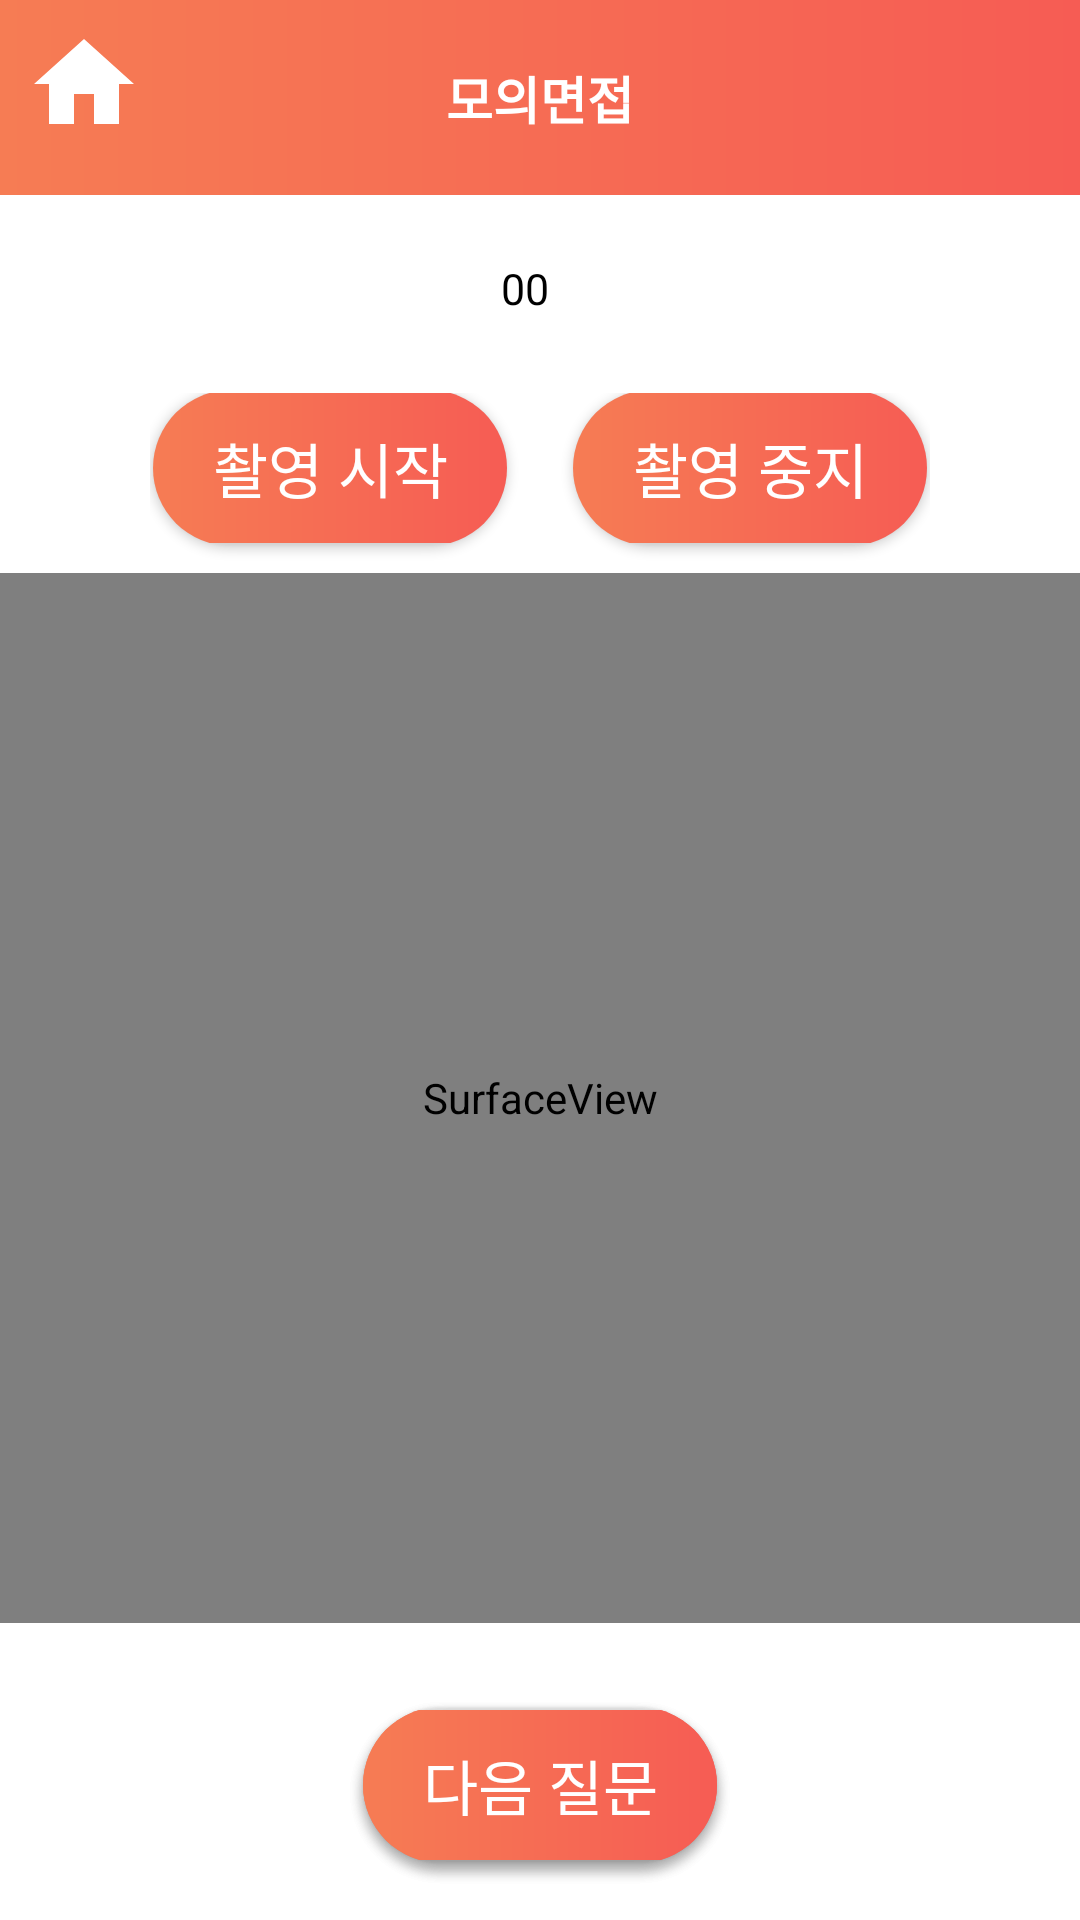

Named icons in this screenshot (1080 × 1920) and their bounding boxes, detection(x1, y1, x2, y2):
home: detection(34, 39, 134, 124)
